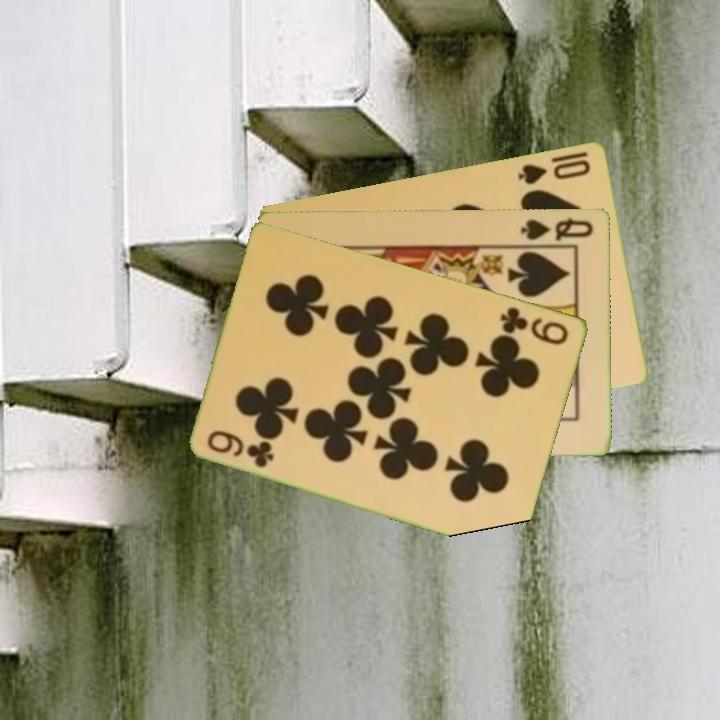10s: (515, 155, 594, 187)
9c: (497, 303, 572, 348), (204, 426, 277, 471)
Qs: (517, 214, 596, 243)
